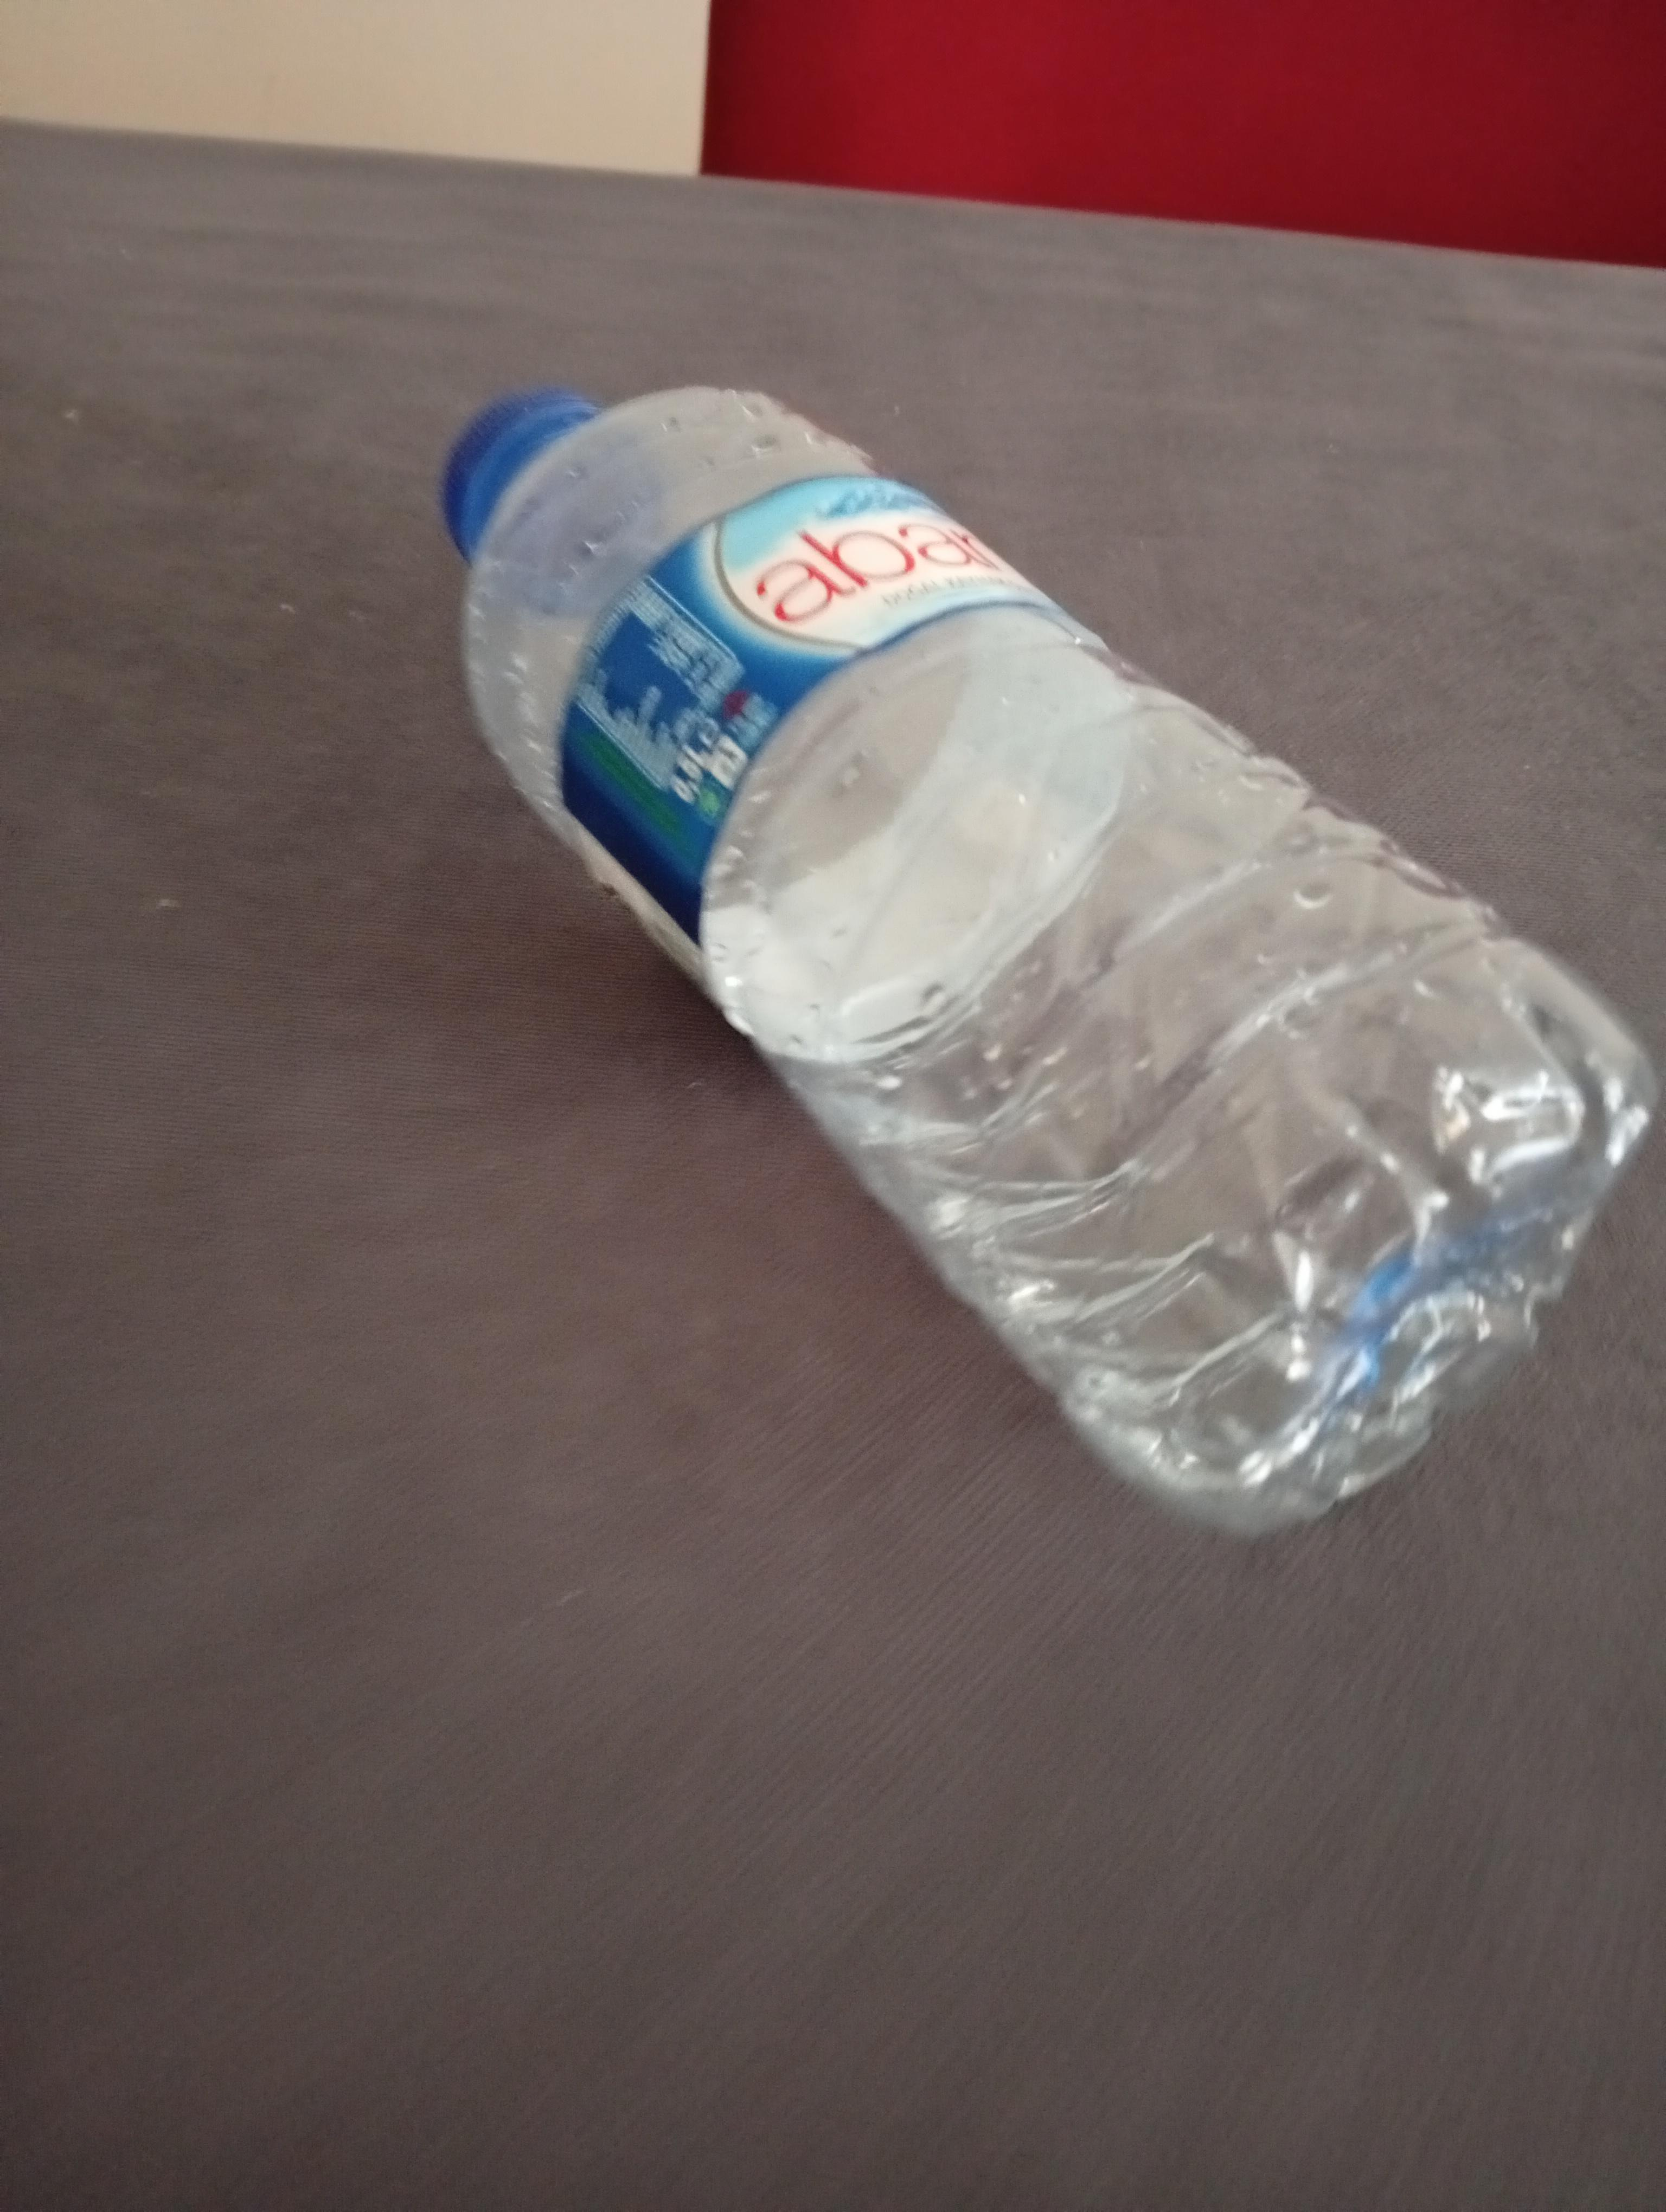etiketli: (389, 323, 1640, 1563)
